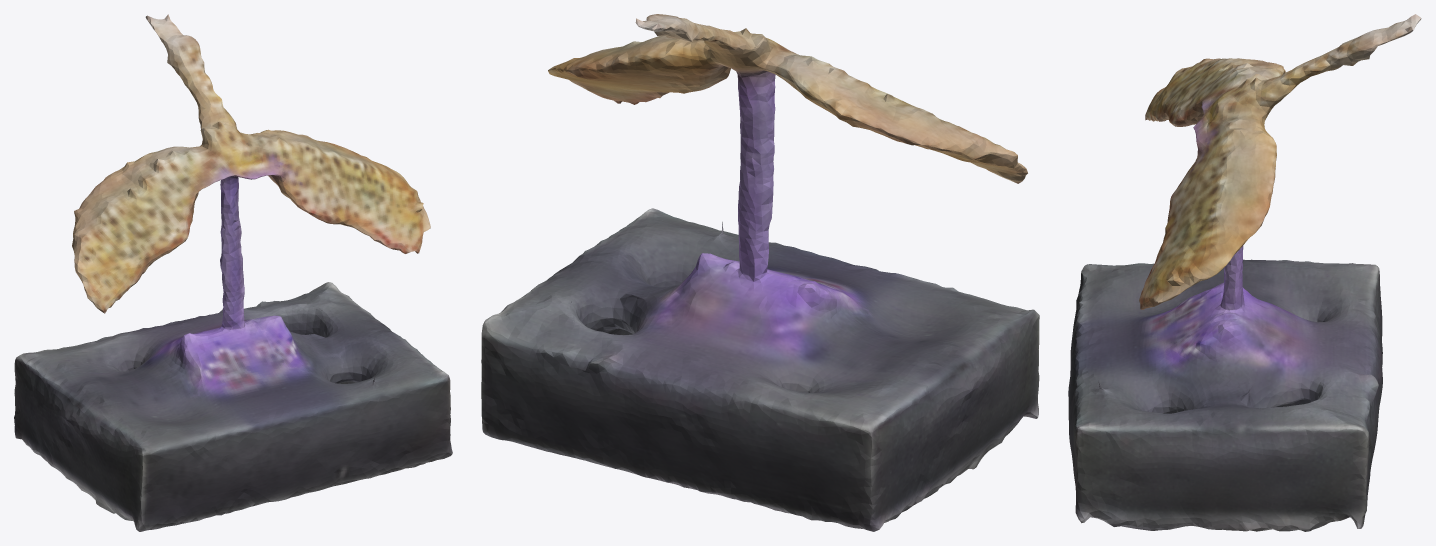
Rendered from bamboo_pigeon.glb.
3 views of the same model, side by side, from view 1: azimuth 30°, elevation 25°; view 2: azimuth 150°, elevation 25°; view 3: azimuth 270°, elevation 25° (orthographic). The views are drawn at different scales.
Bounding box in the file's own units: 0.6712 × 0.7071 × 0.5172.
Materials: 1 (1 with a texture image).
